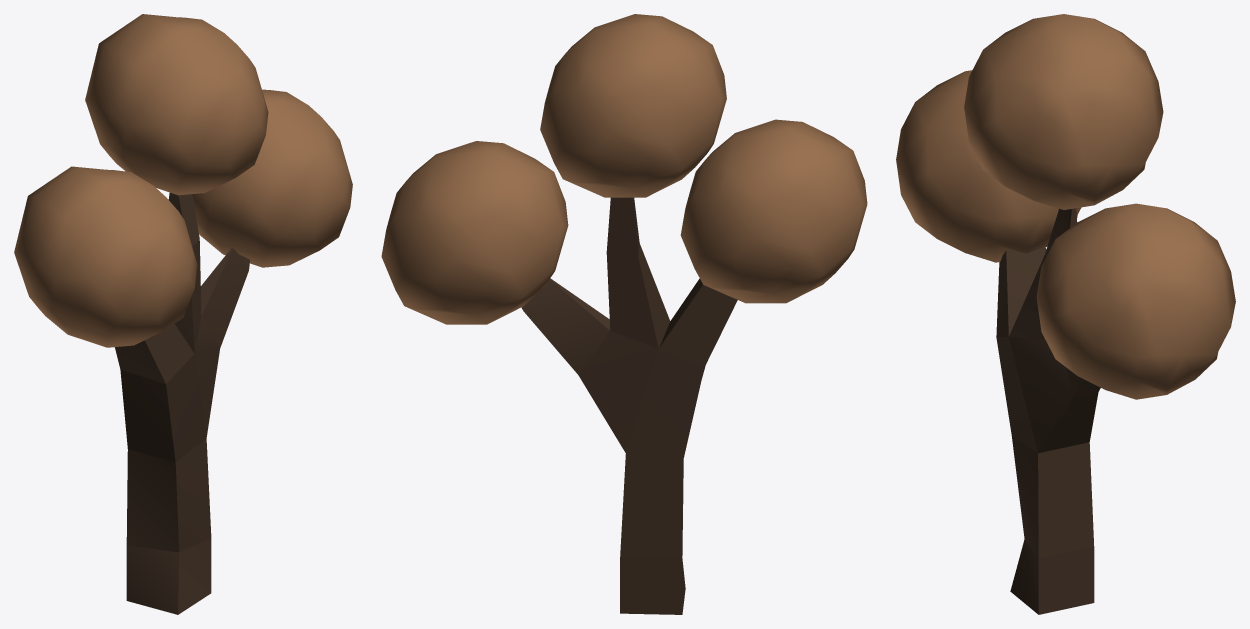
Rendered from Tree-Shrine.fbx.
3 renders of one model, left to right at view 1: azimuth 30°, elevation 25°; view 2: azimuth 150°, elevation 25°; view 3: azimuth 270°, elevation 25°, orthographic.
Visible parts, largest first — view 1: Tree; view 2: Tree; view 3: Tree.
Boxes of the visible parts, x1,y1,x2,y2 form: Tree: (14,14,352,614); Tree: (381,14,867,614); Tree: (896,14,1235,614).
Size of the model in its own units: 7.14 by 10.3 by 5.45.
